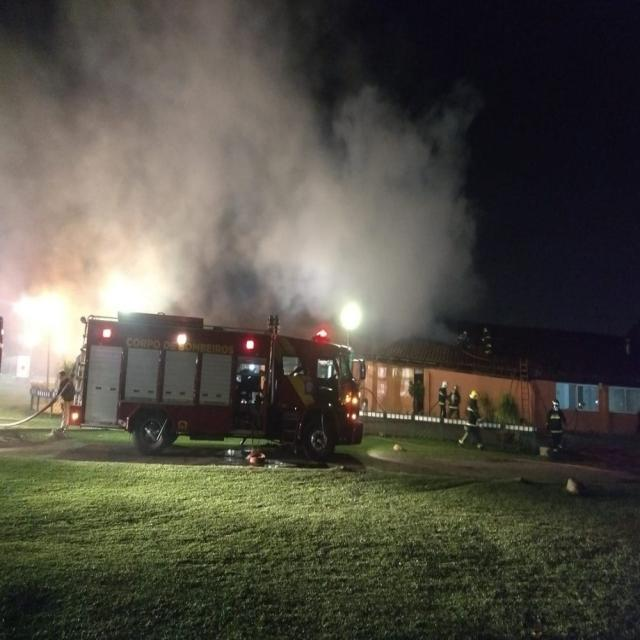Smoke: (0, 1, 500, 346)
